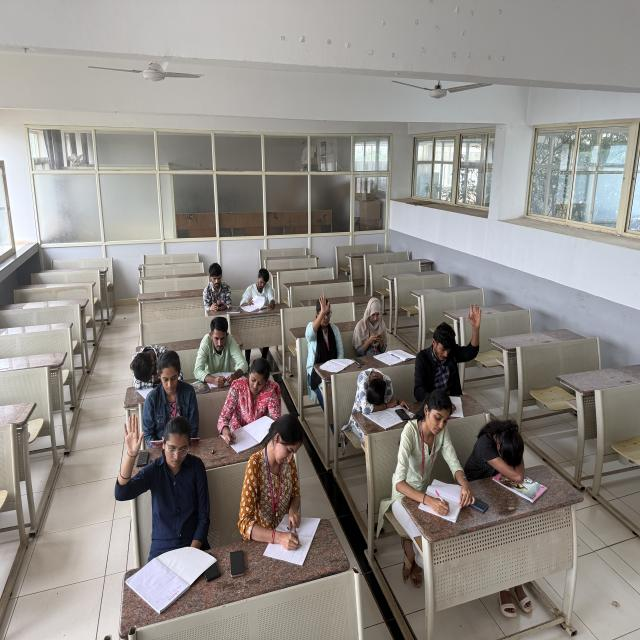Hand Rising: (113, 404, 211, 573), (411, 299, 489, 393), (302, 292, 351, 380)
Reading: (140, 348, 203, 448), (192, 312, 250, 392), (238, 266, 280, 314)
Sleeping: (470, 414, 535, 484), (349, 366, 403, 426), (123, 342, 163, 402)
Using Phone: (351, 292, 392, 365), (198, 260, 235, 316)
Writing: (389, 388, 472, 530), (238, 411, 317, 559), (214, 357, 286, 457)
